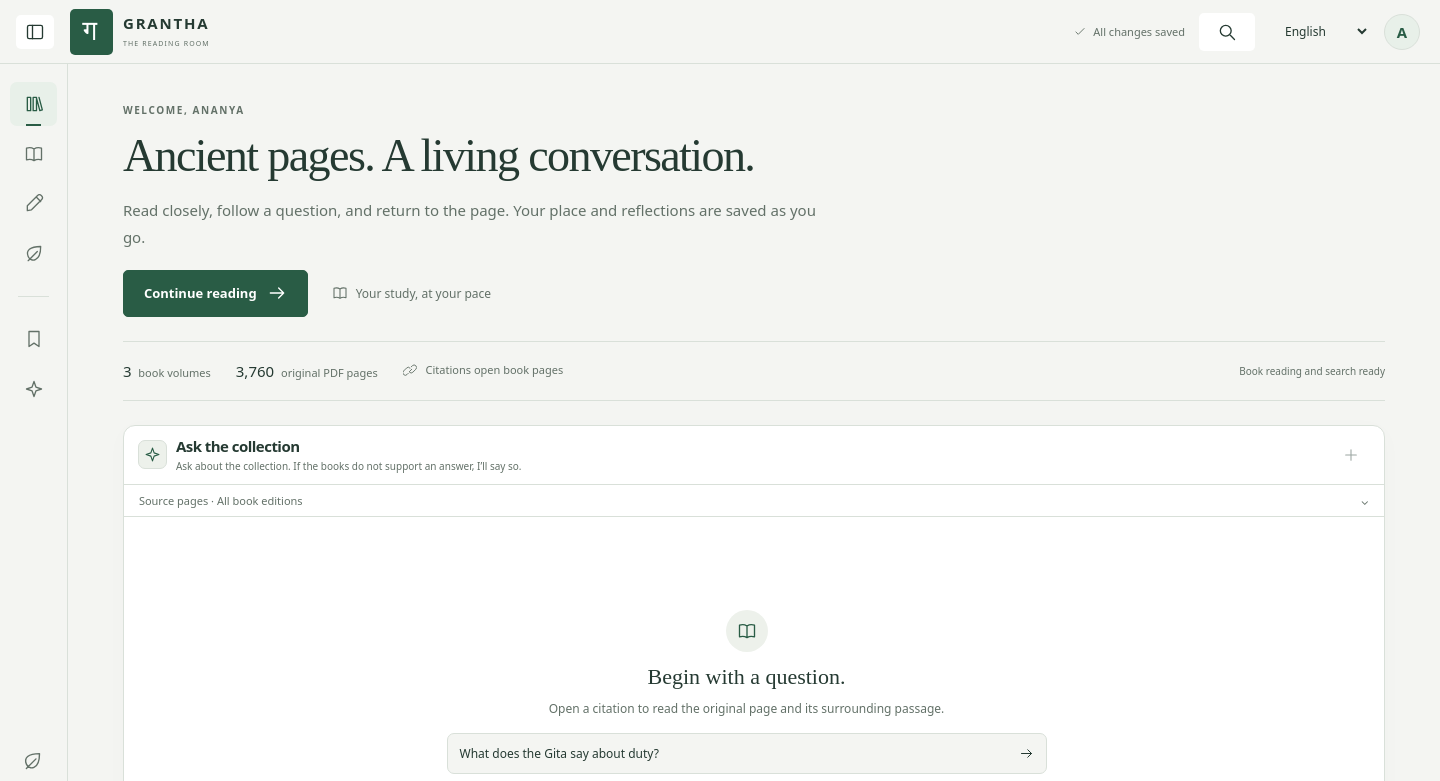
bookshelf shows the three uploaded editions and original source filenames
expect the text "3,760" is shown: met, box [236,361,274,381]
Step 1. Click the button named "Sources" → (34, 254), box [10,232,57,276]
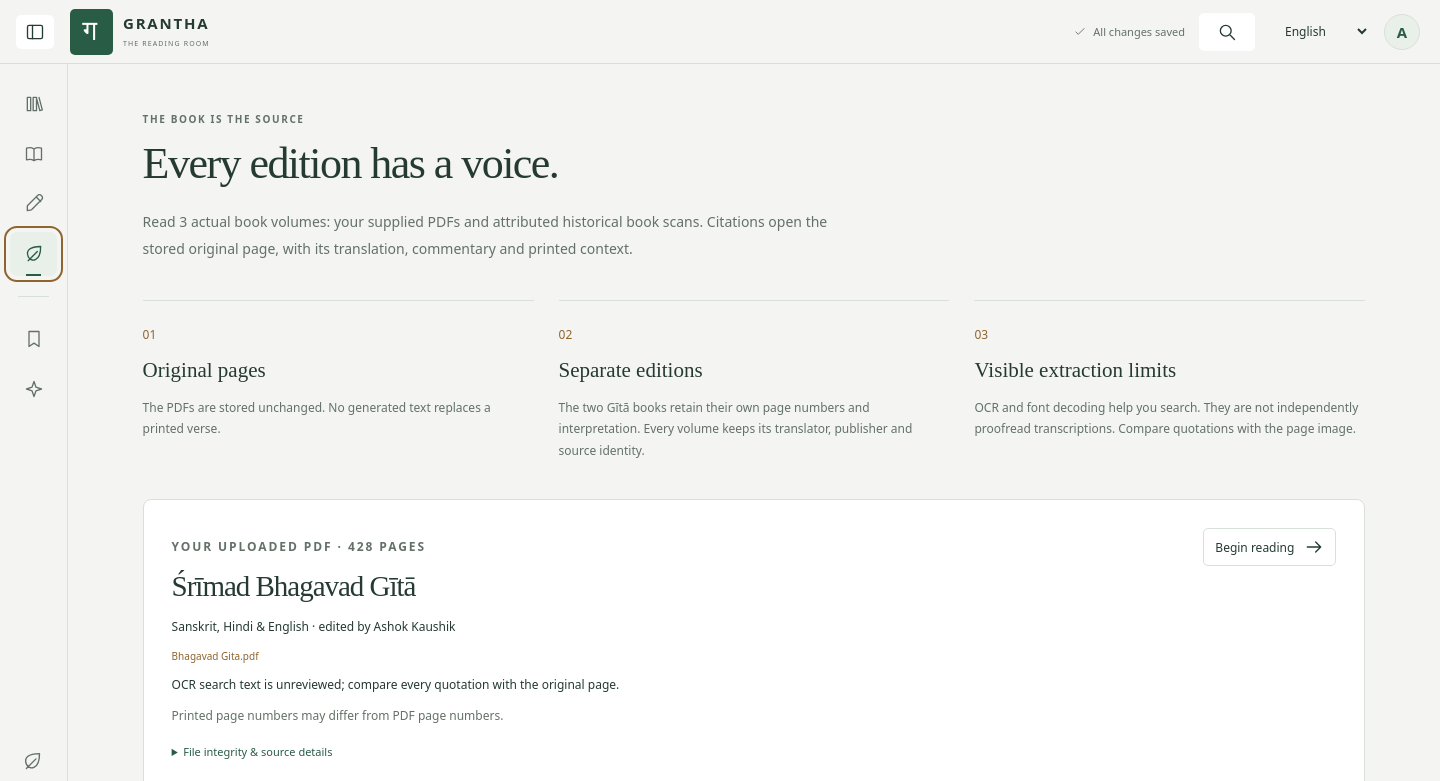
expect the text "Bhagavad Gita.pdf" is shown: met, box [172,649,259,663]
expect the text "two Gītā books retain their own page numbers" is shown: met, box [558,399,912,459]
